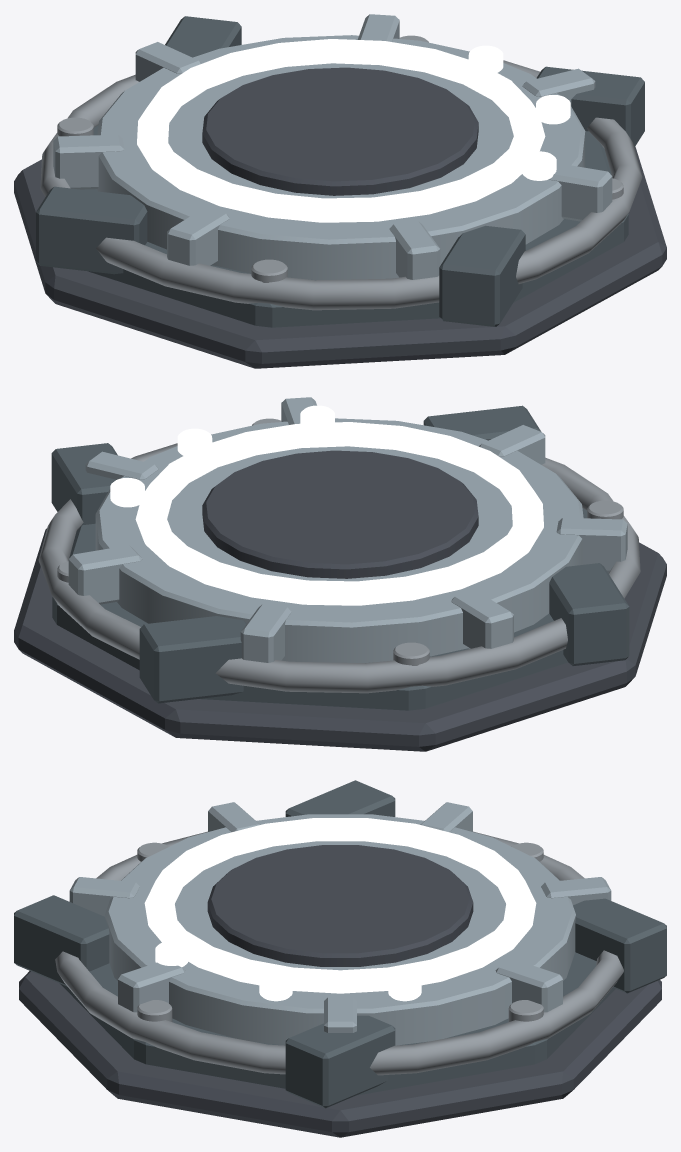
Rendered from rail_base_l3.glb.
3 views of the same model, one above another, from view 1: azimuth 30°, elevation 25°; view 2: azimuth 150°, elevation 25°; view 3: azimuth 270°, elevation 25° (orthographic). The views are drawn at different scales.
Visible parts, largest first — view 1: Cylinder.002, Cylinder, Cylinder.003, Torus.001, Torus, Cylinder.001, Cube.009, Cube.010, Cube.007, Cube.003, Cube.006, Cube.004 (+10 smaller); view 2: Cylinder.002, Cylinder, Cylinder.003, Torus.001, Torus, Cylinder.001, Cube.008, Cube.009, Cube.007, Cube.001, Cube.003, Cube.004 (+10 smaller); view 3: Cylinder.002, Cylinder, Cylinder.003, Torus.001, Torus, Cylinder.001, Cube.007, Cube.010, Cube.008, Cube.009, Cube.001, Cube.006 (+10 smaller).
Part boxes in pixels (x1,y1,x2,y2): Cylinder.002: (97, 35, 585, 279); Cylinder: (14, 146, 666, 368); Cylinder.003: (202, 67, 478, 195); Torus.001: (137, 39, 545, 222); Torus: (40, 60, 642, 310); Cylinder.001: (83, 125, 628, 327); Cube.009: (36, 186, 147, 274); Cube.010: (439, 225, 525, 326); Cube.007: (536, 66, 644, 147); Cube.003: (53, 134, 124, 189); Cube.006: (548, 163, 612, 221); Cube.004: (167, 207, 229, 265); Cylinder.002: (95, 418, 583, 662); Cylinder: (14, 528, 666, 751); Cylinder.003: (202, 450, 478, 578); Torus.001: (135, 422, 543, 605); Torus: (38, 443, 640, 693); Cylinder.001: (52, 508, 608, 710); Cube.008: (139, 616, 246, 703); Cube.009: (549, 563, 629, 665); Cube.007: (51, 443, 117, 525); Cube.001: (68, 545, 142, 604); Cube.003: (451, 590, 513, 648); Cube.004: (556, 517, 627, 572); Cylinder.002: (105, 814, 575, 1045); Cylinder: (19, 971, 661, 1137); Cylinder.003: (207, 845, 473, 966); Torus.001: (144, 818, 536, 993); Torus: (55, 831, 623, 1075); Cylinder.001: (60, 952, 615, 1095); Cube.007: (285, 1015, 395, 1108); Cube.010: (14, 895, 109, 986); Cube.008: (573, 898, 666, 993); Cube.009: (285, 780, 395, 816); Cube.001: (495, 959, 562, 1012); Cube.006: (118, 962, 185, 1012).
Size of the model in its own units: 2.16 by 0.4 by 2.16.
